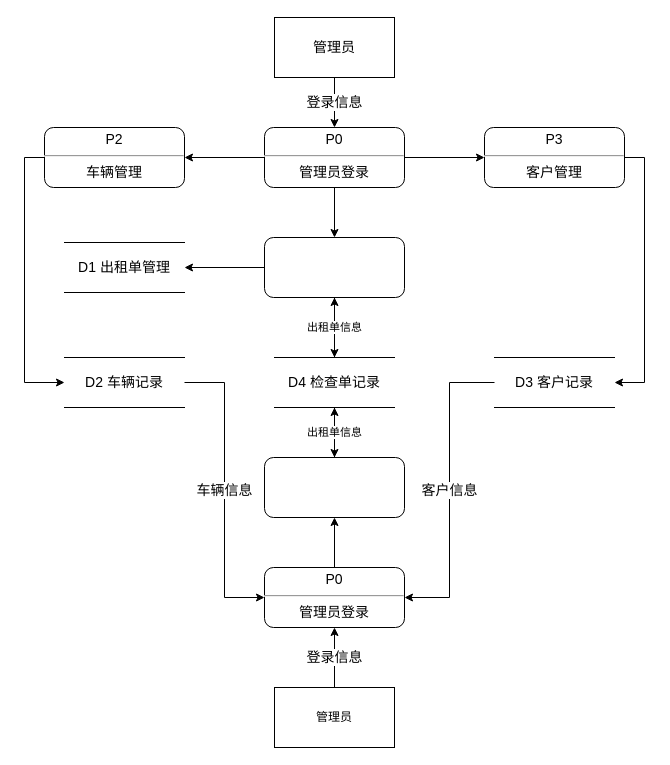
Some shapes in this 670 by 765 pixel diagram are drawn without their labels. The shapes that lost their labels are listed below. From the top down, each one's box as (x1, y1, x2, y2) in pixels, then its label:
(264, 236, 404, 298): P1 出租单管理
(264, 456, 404, 518): P4 检查单管理
